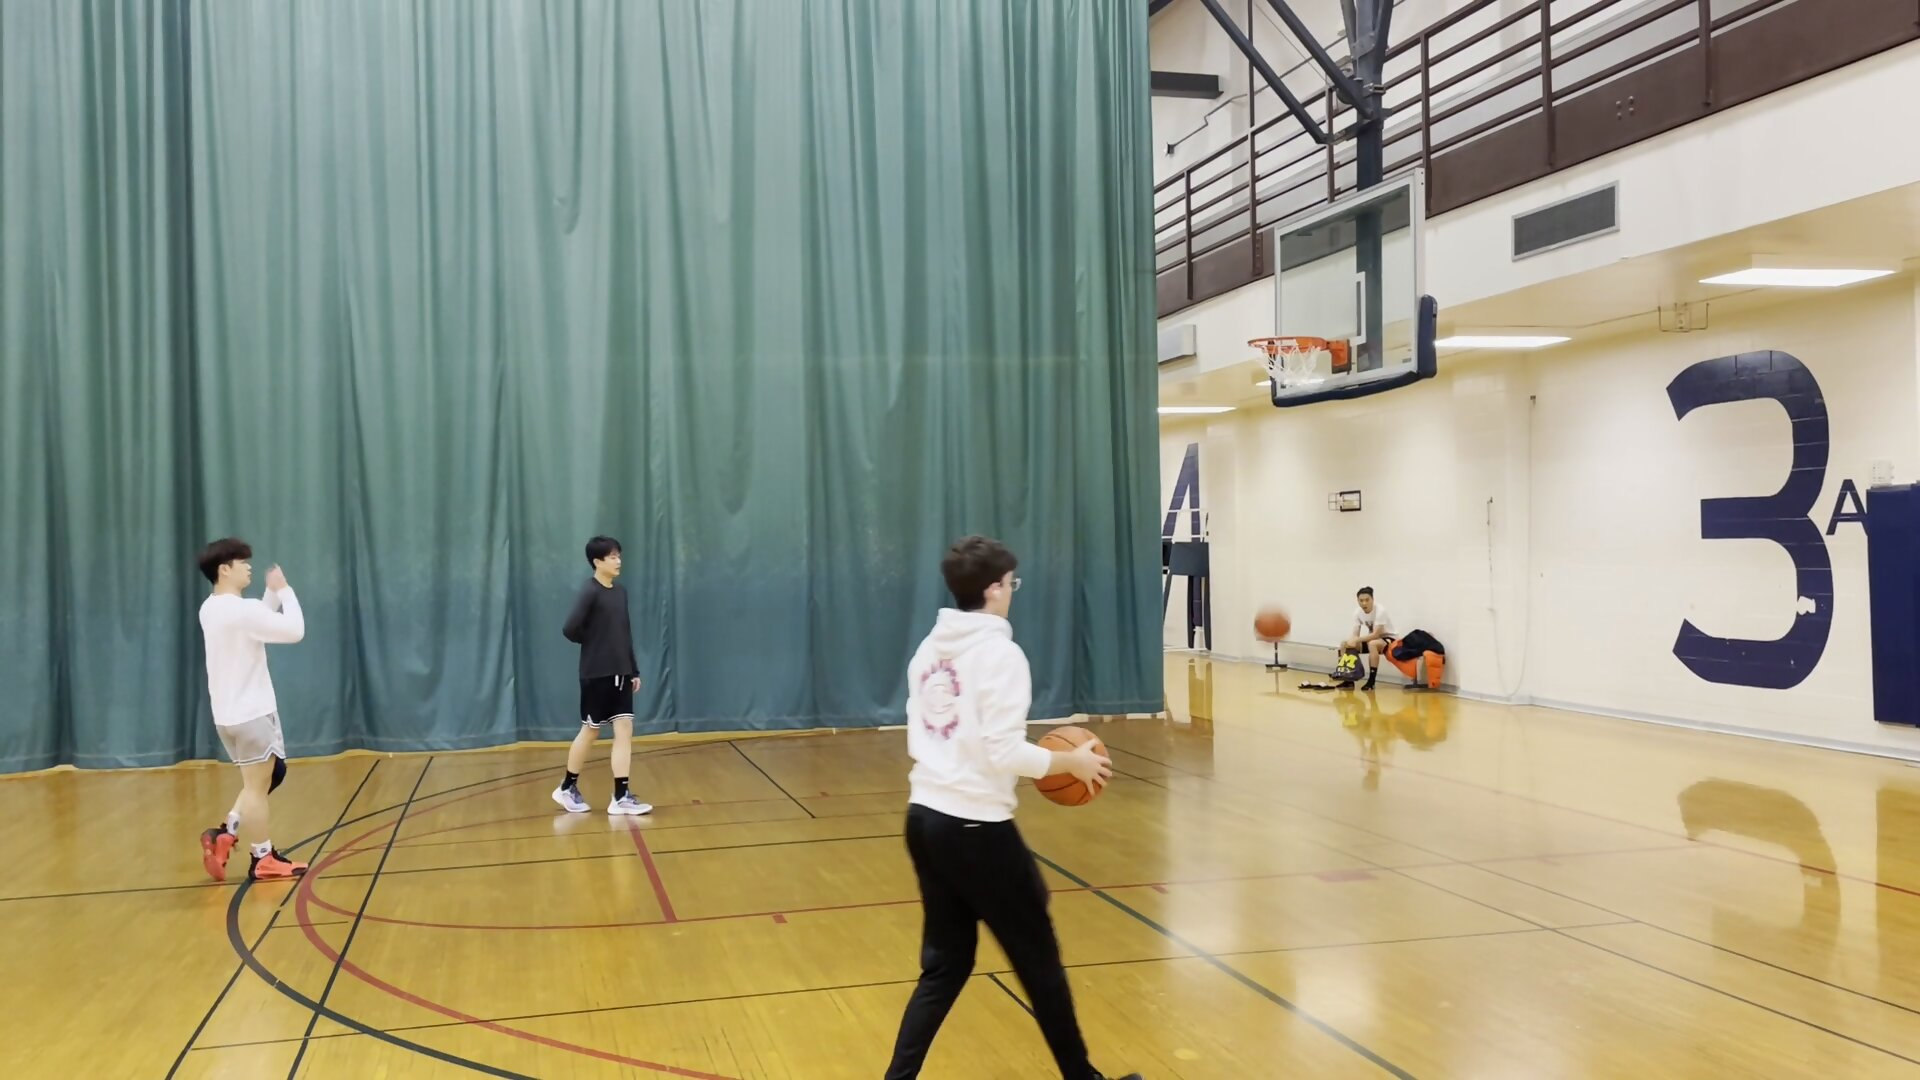ball: (1034, 724, 1112, 816), (1240, 598, 1295, 649)
net: (1257, 362, 1320, 389)
player: (892, 534, 1117, 1080), (184, 538, 321, 886), (554, 530, 665, 817), (1343, 586, 1393, 693)
rim: (1243, 329, 1334, 362)
